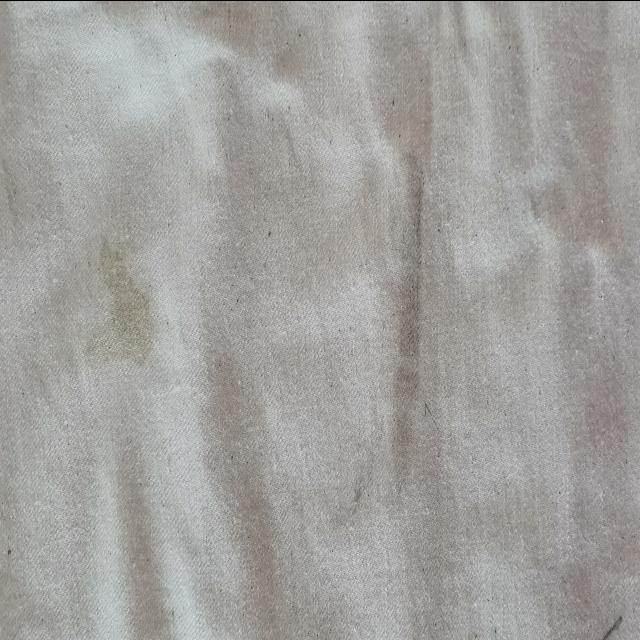taaaches: (379, 110, 441, 518), (79, 214, 162, 380), (590, 597, 633, 640)
